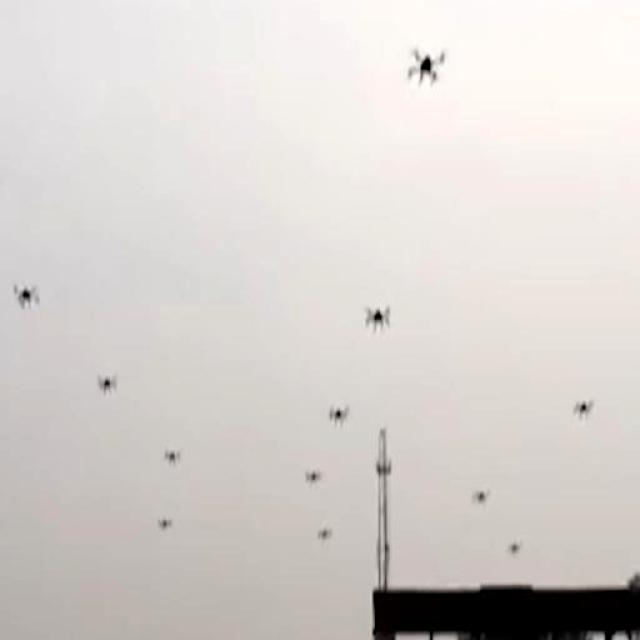bird: (395, 28, 450, 99), (355, 282, 401, 348), (578, 374, 612, 434), (2, 268, 45, 310), (504, 522, 535, 580), (291, 454, 334, 488), (155, 505, 184, 550), (94, 356, 128, 392), (318, 516, 346, 559), (0, 142, 15, 222), (158, 436, 186, 474), (329, 391, 352, 429), (470, 462, 488, 509), (0, 484, 15, 535)
